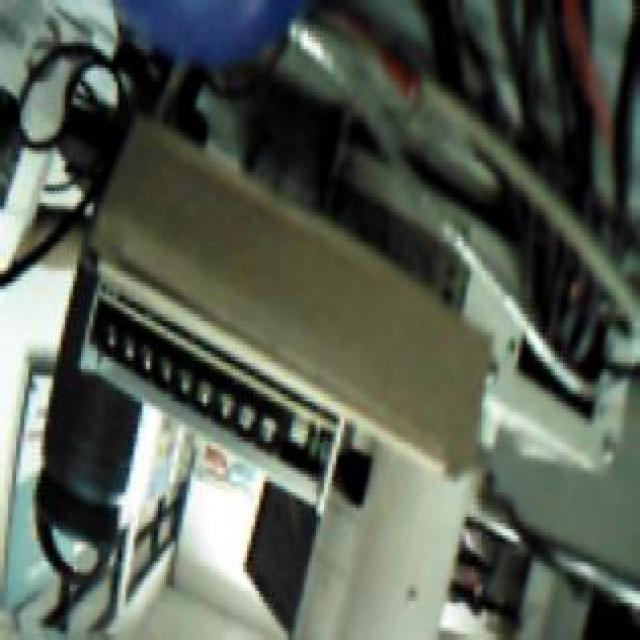BallPurple: (104, 0, 305, 77)
